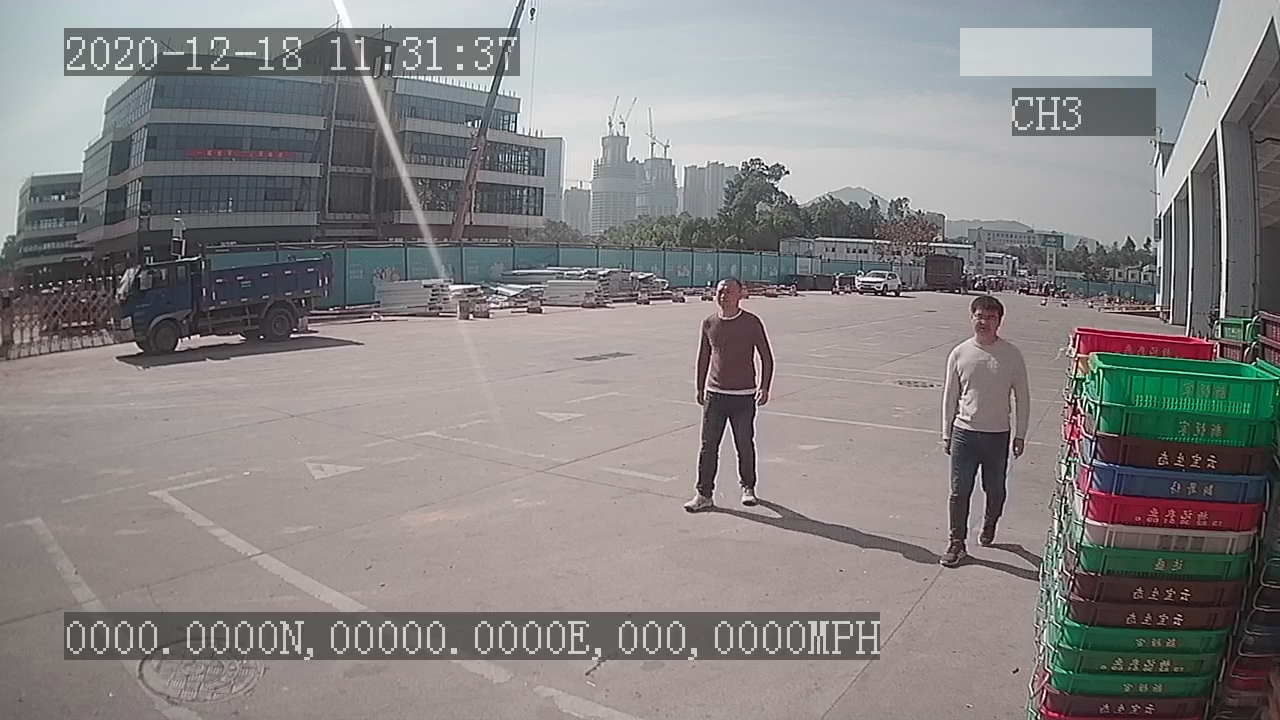person: (935, 289, 1033, 573), (682, 273, 780, 511)
